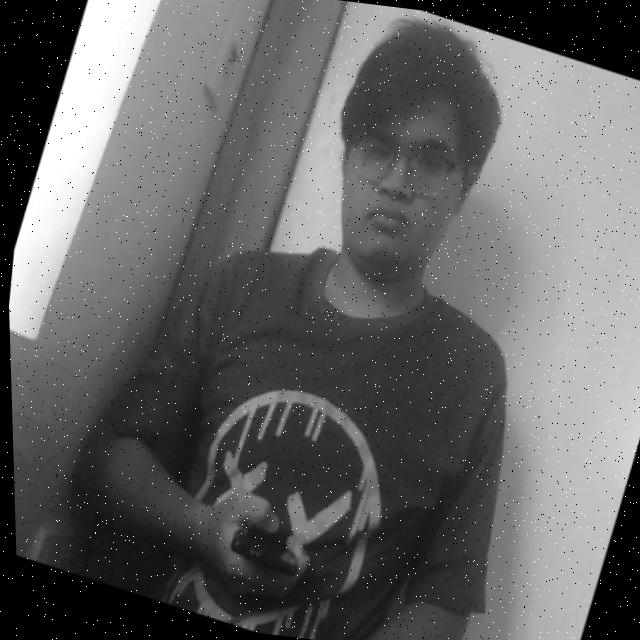phone: (199, 494, 323, 610)
